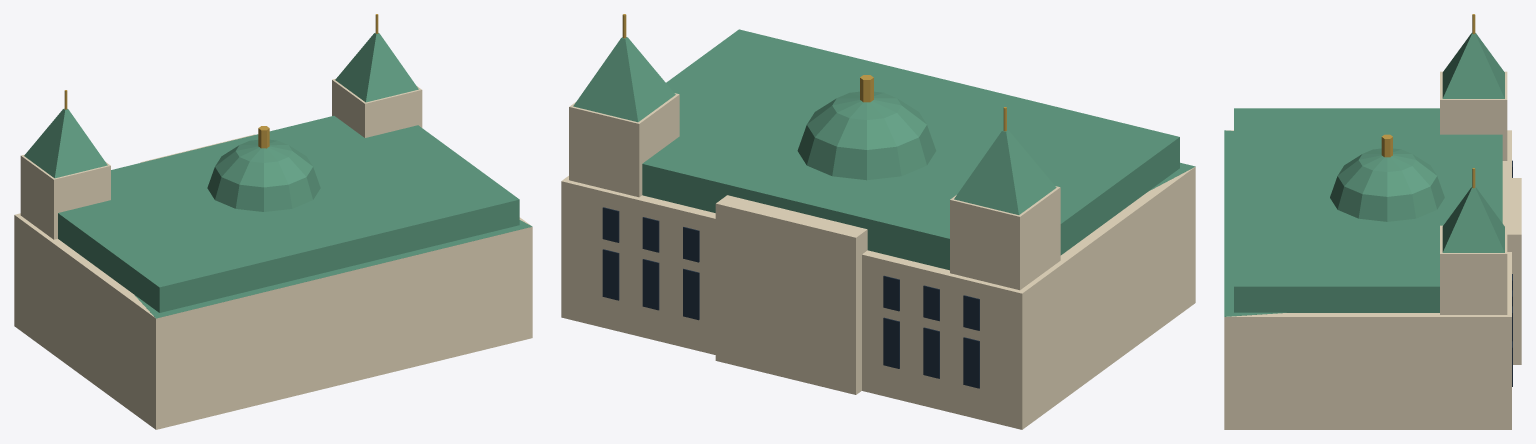
File: casino.glb
The picture shows the model from 3 angles, left to right: view 1: azimuth 30°, elevation 25°; view 2: azimuth 150°, elevation 25°; view 3: azimuth 270°, elevation 25°; orthographic projection. The views are drawn at different scales.
Visible parts, largest first — view 1: casino; view 2: casino; view 3: casino.
Boxes of the visible parts, box(x1,y1,x2,y2) form: casino: box(14, 14, 532, 429); casino: box(561, 14, 1195, 429); casino: box(1224, 14, 1521, 429).
Bounding box in the file's own units: 46 × 28.2 × 31.
